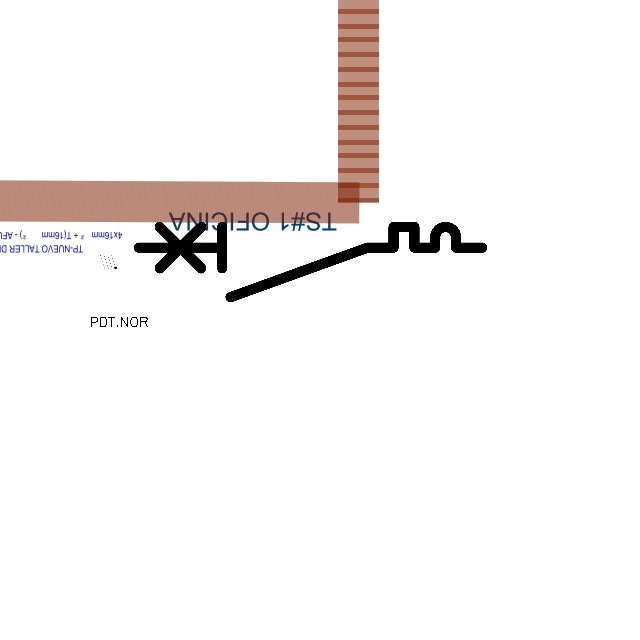interruptor_termomagnetico: (129, 218, 490, 306)
